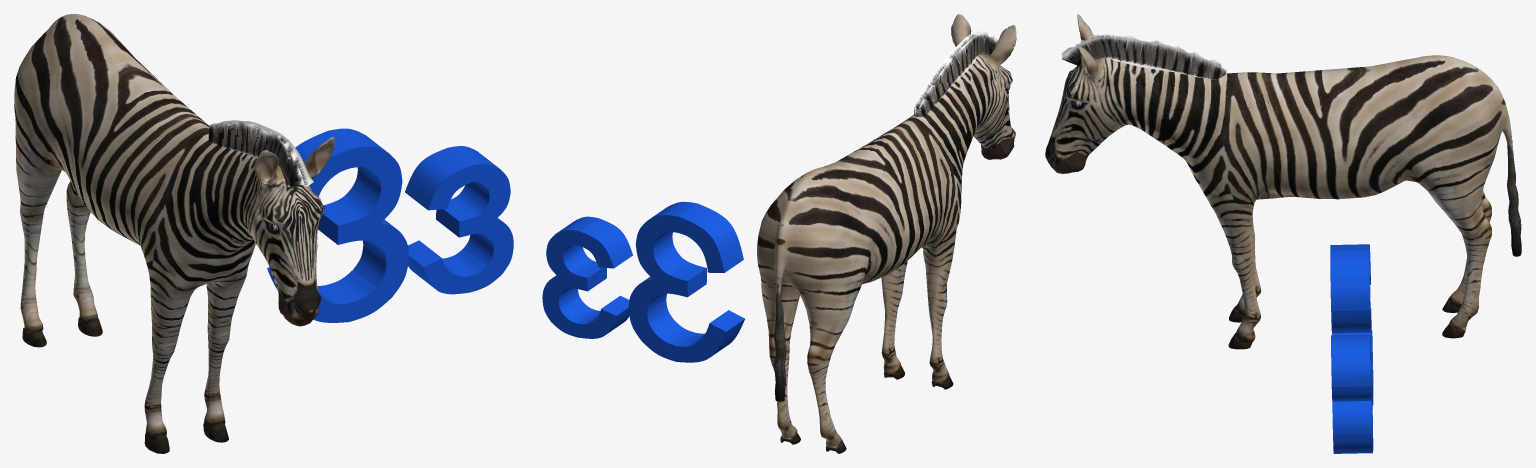
3 renders of one model, left to right at view 1: azimuth 30°, elevation 25°; view 2: azimuth 150°, elevation 25°; view 3: azimuth 270°, elevation 25°, orthographic. The views are drawn at different scales.
Visible parts, largest first — view 1: zebra, Mesh_0.010; view 2: zebra, Mesh_0.010; view 3: zebra, Mesh_0.010.
Part boxes in pixels (bbox=[...]): zebra: bbox=[14, 14, 334, 453]; Mesh_0.010: bbox=[267, 128, 513, 322]; zebra: bbox=[757, 14, 1016, 453]; Mesh_0.010: bbox=[542, 201, 744, 362]; zebra: bbox=[1045, 14, 1521, 349]; Mesh_0.010: bbox=[1330, 244, 1373, 453].
Size of the model in its own units: 31.19 by 25.76 by 35.65.
5 materials, 4 textured.
